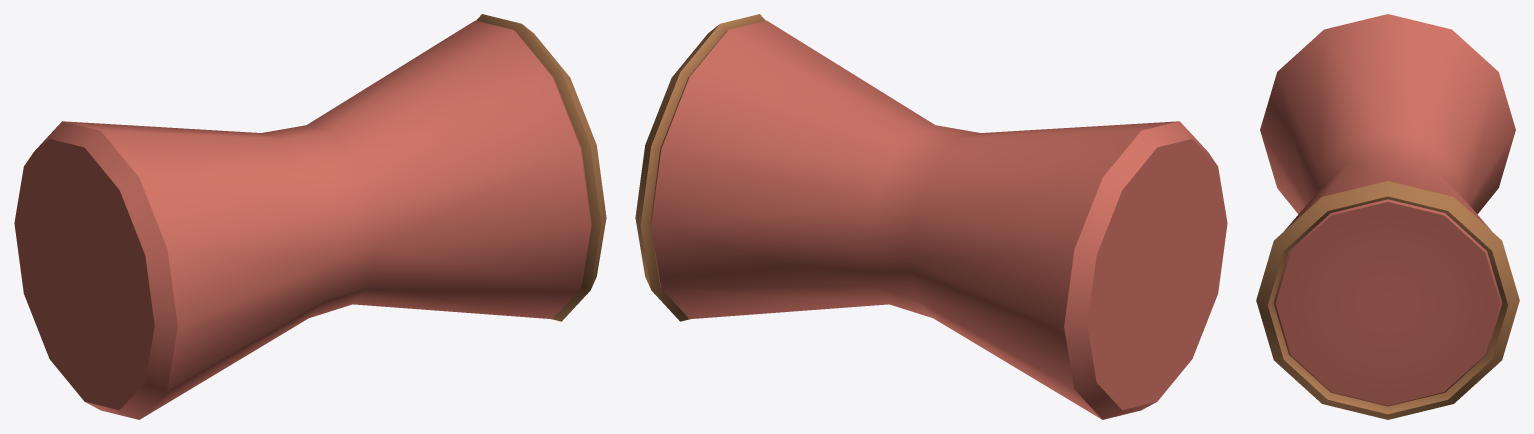
Rendered from fishing_can.glb.
3 renders of one model, left to right at view 1: azimuth 30°, elevation 25°; view 2: azimuth 150°, elevation 25°; view 3: azimuth 270°, elevation 25°, orthographic. The views are drawn at different scales.
Visible parts, largest first — view 1: PART; view 2: PART; view 3: PART.
Part boxes in pixels (box(x1,y1,x2,y2)): PART: box(14, 14, 606, 419); PART: box(635, 14, 1227, 419); PART: box(1256, 14, 1519, 419).
Bounding box in the file's own units: 0.111 × 0.068 × 0.068.
